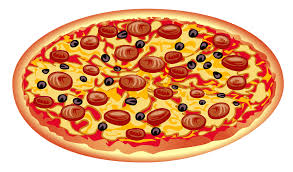pizza: (14, 9, 284, 161)
